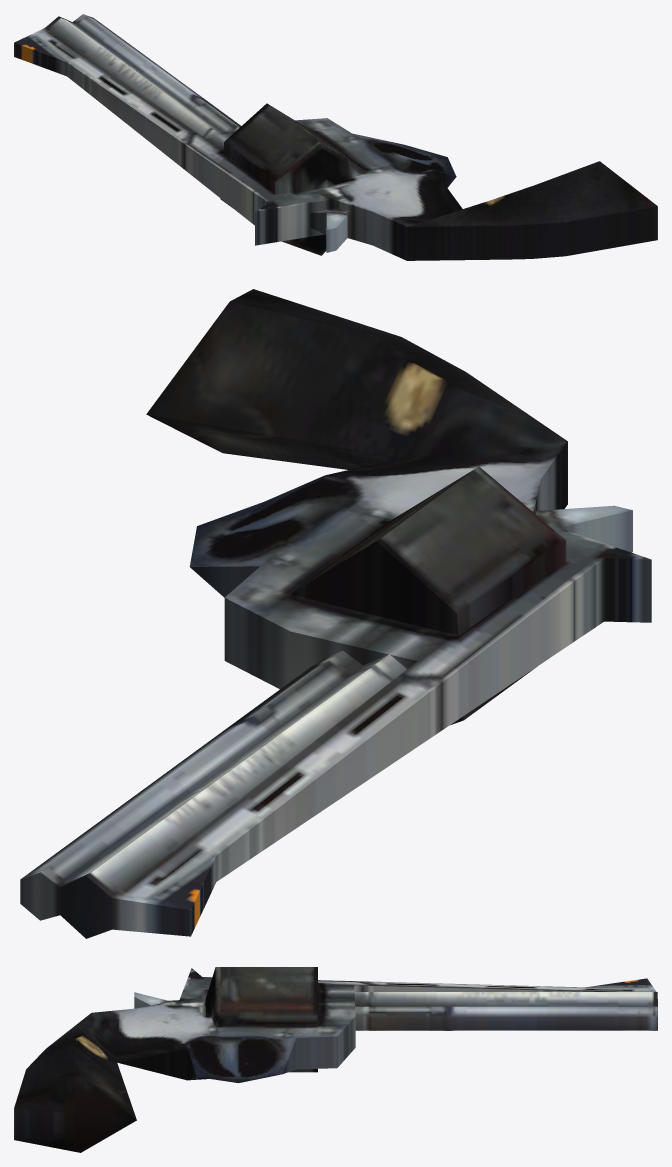
The model's file is hl2_magnum.obj.
3 renders of one model, top to bottom at view 1: azimuth 30°, elevation 25°; view 2: azimuth 150°, elevation 25°; view 3: azimuth 270°, elevation 25°, orthographic. The views are drawn at different scales.
Parts seen in each view (by area): view 1: w_357_reference_w_357_reference.001; view 2: w_357_reference_w_357_reference.001; view 3: w_357_reference_w_357_reference.001.
Boxes of the visible parts, x1,y1,x2,y2 form: w_357_reference_w_357_reference.001: (14, 14, 657, 260); w_357_reference_w_357_reference.001: (20, 289, 651, 938); w_357_reference_w_357_reference.001: (14, 967, 657, 1152).
Size of the model in its own units: 7.15 by 2.5 by 13.85.
1 material, 1 textured.
